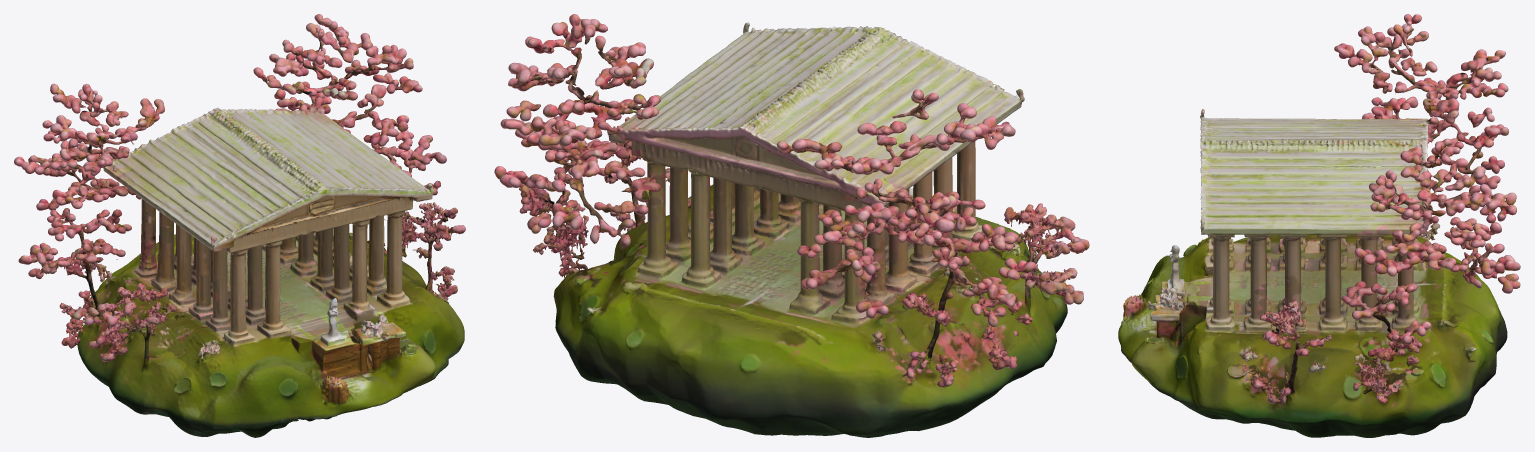
File: Meshy_AI__Greece_A_floating_i_1017055415_texture.fbx
3 renders of one model, left to right at view 1: azimuth 30°, elevation 25°; view 2: azimuth 150°, elevation 25°; view 3: azimuth 270°, elevation 25°, orthographic. The views are drawn at different scales.
Visible parts, largest first — view 1: Mesh_0; view 2: Mesh_0; view 3: Mesh_0.
Boxes of the visible parts, <box> form: Mesh_0: <box>14,14,465,437</box>; Mesh_0: <box>494,14,1089,437</box>; Mesh_0: <box>1118,14,1520,437</box>.
Size of the model in its own units: 199 by 144 by 163.
1 material, 1 textured.
